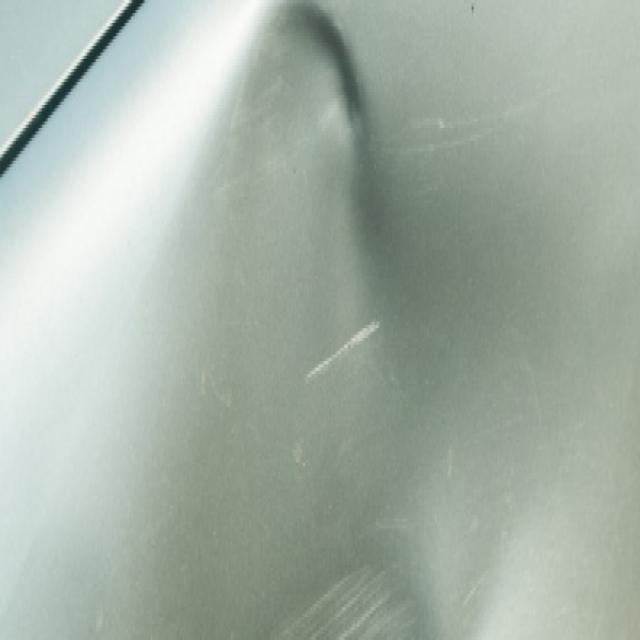dents: (236, 5, 401, 298), (294, 526, 438, 640)
